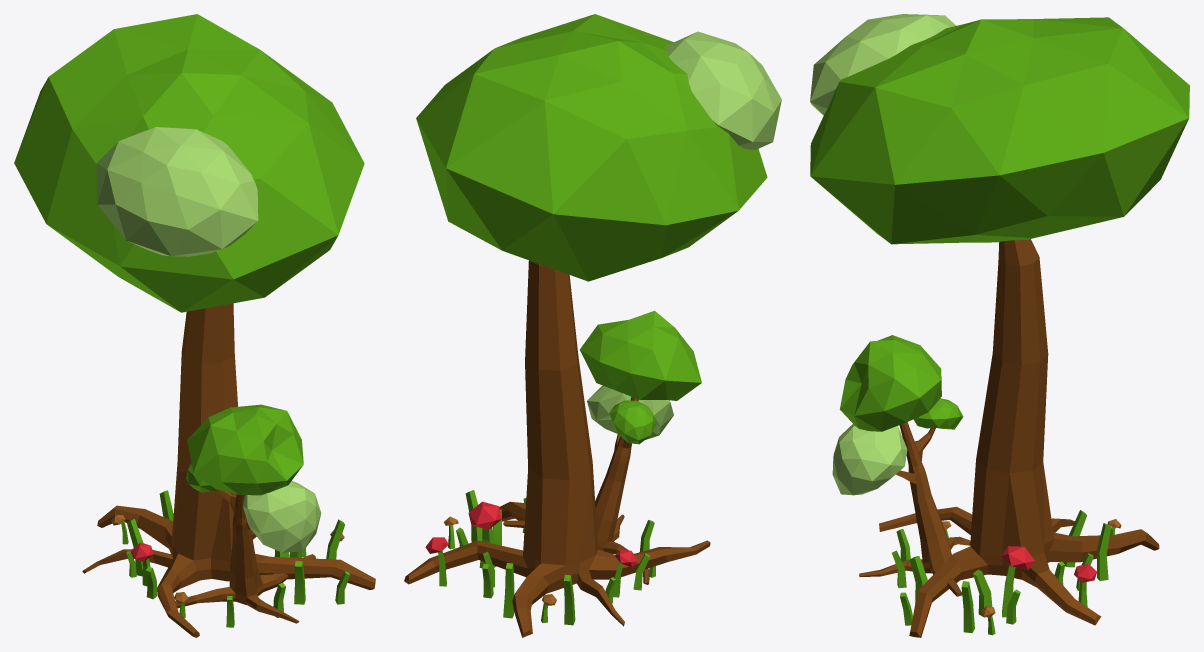
The model's file is Tree_Bob_01.fbx.
The picture shows the model from 3 angles, left to right: view 1: azimuth 30°, elevation 25°; view 2: azimuth 150°, elevation 25°; view 3: azimuth 270°, elevation 25°; orthographic projection. The views are drawn at different scales.
Parts seen in each view (by area): view 1: Tree_Push_01; view 2: Tree_Push_01; view 3: Tree_Push_01.
Part boxes in pixels (x1,y1,x2,y2): Tree_Push_01: [14, 14, 375, 637]; Tree_Push_01: [404, 14, 781, 637]; Tree_Push_01: [810, 14, 1189, 637].
Bounding box in the file's own units: 4.36 × 7.66 × 4.84.
